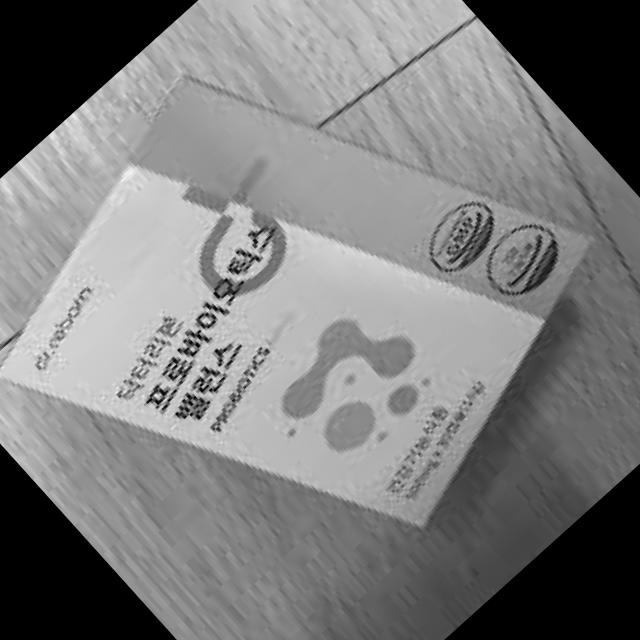GMP: (413, 189, 508, 282)
HEALTHY: (473, 210, 573, 308)
